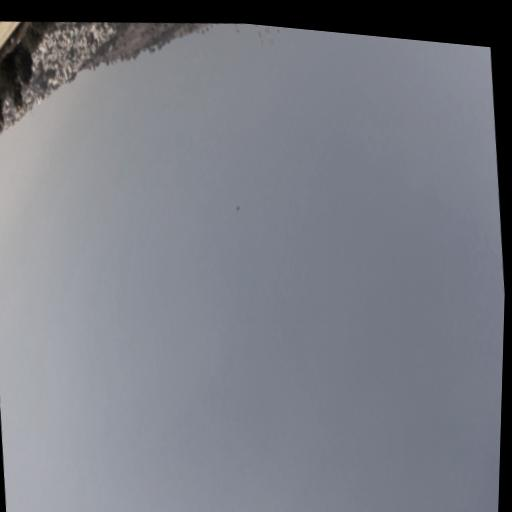drones: (235, 204, 241, 213)
